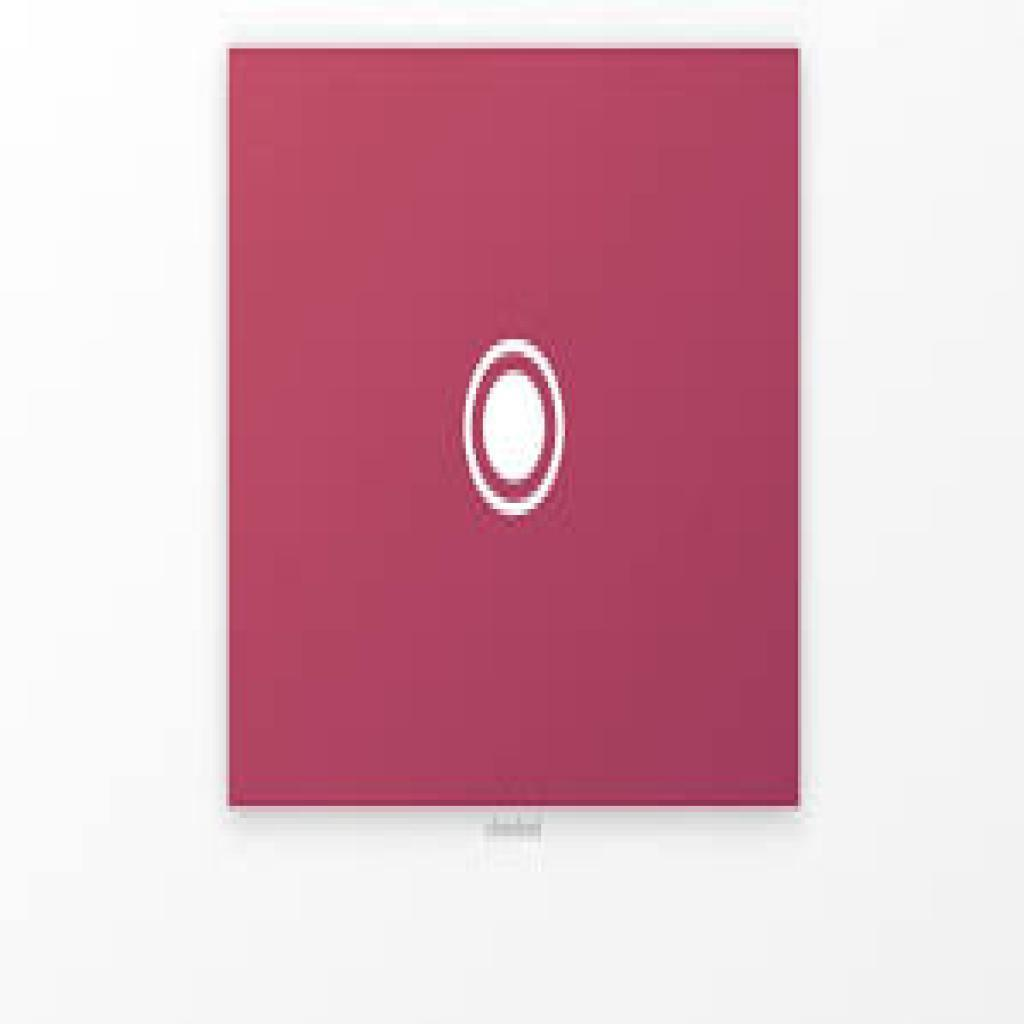radio: (454, 337, 574, 529)
